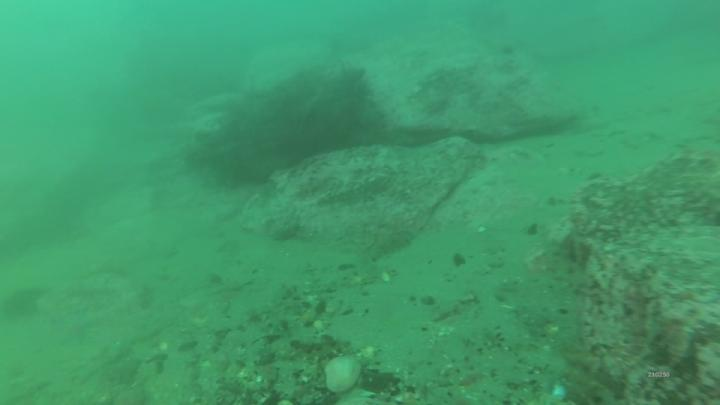scallop: (327, 359, 364, 394)
